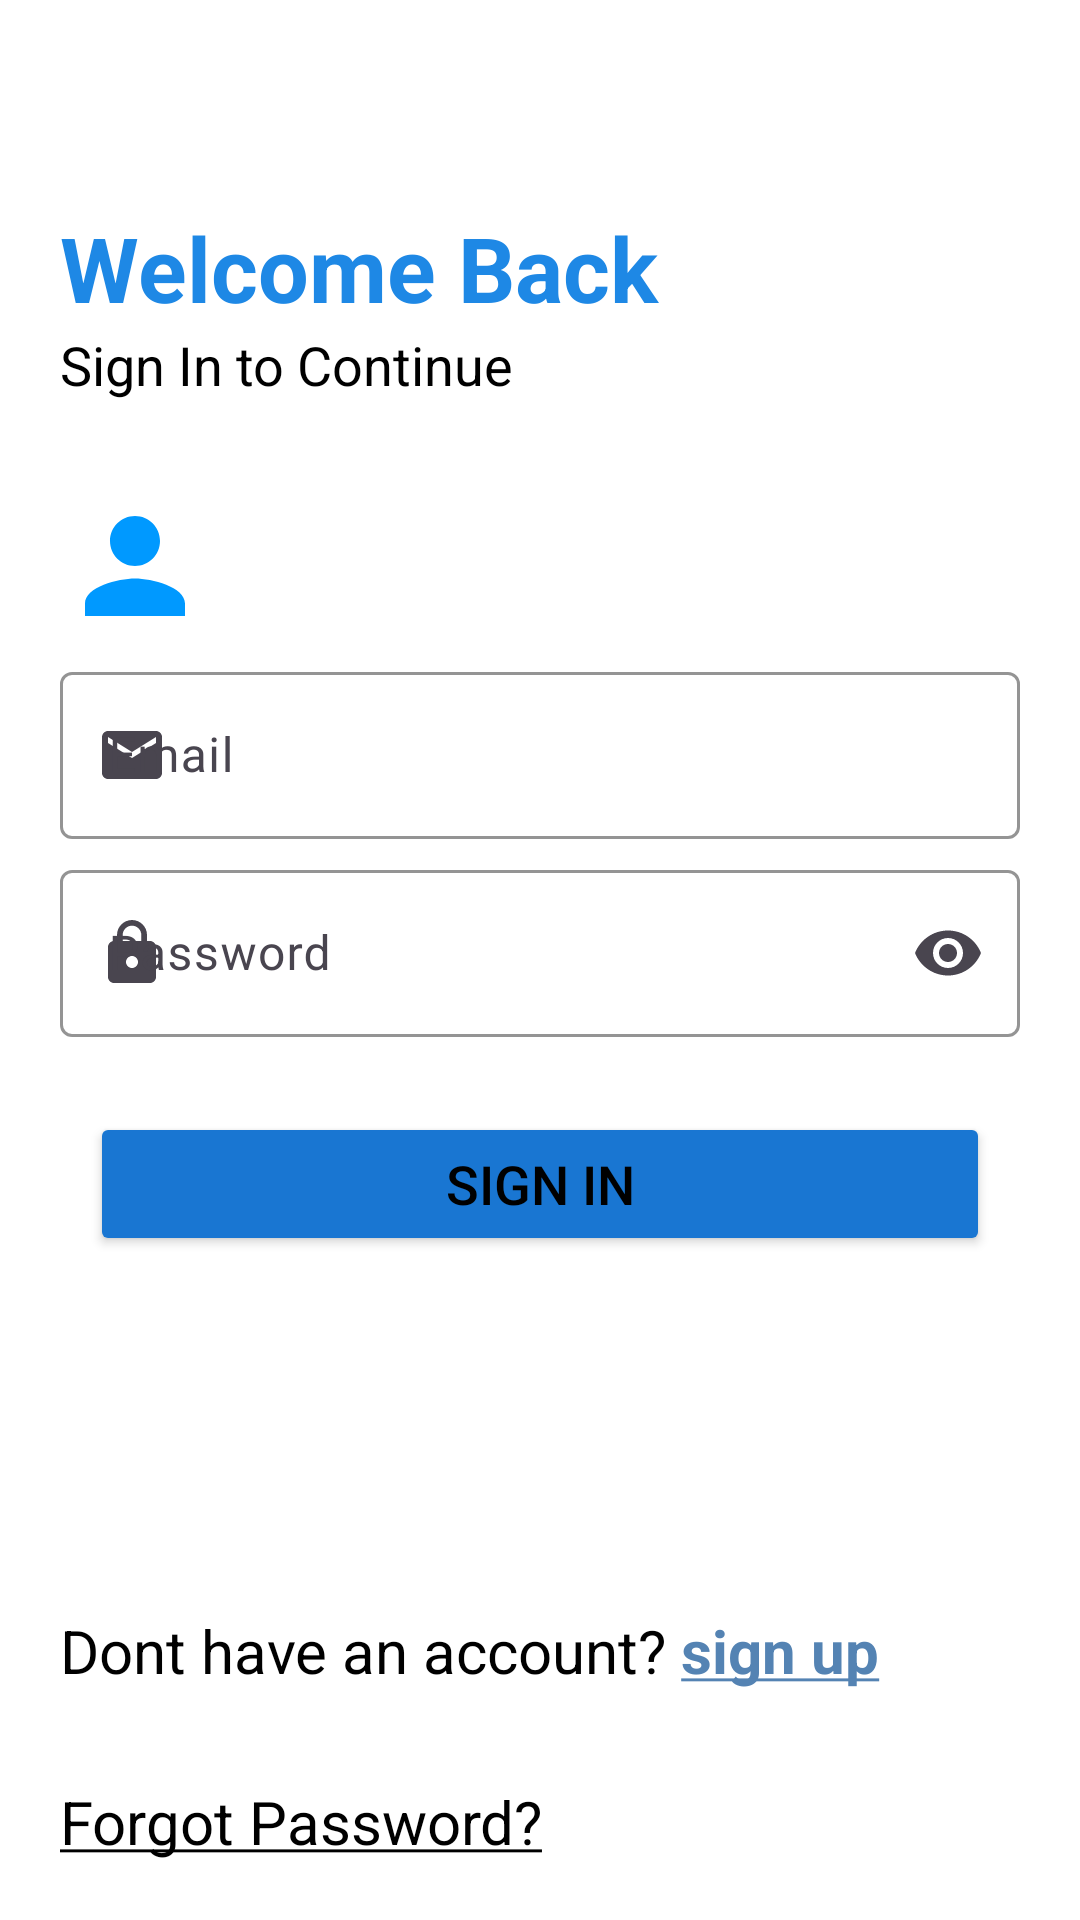

Screen size 1080px x 1920px. Icon name, then its box in pixels as (x1, y1, x2, y2):
person: (85, 516, 185, 616)
